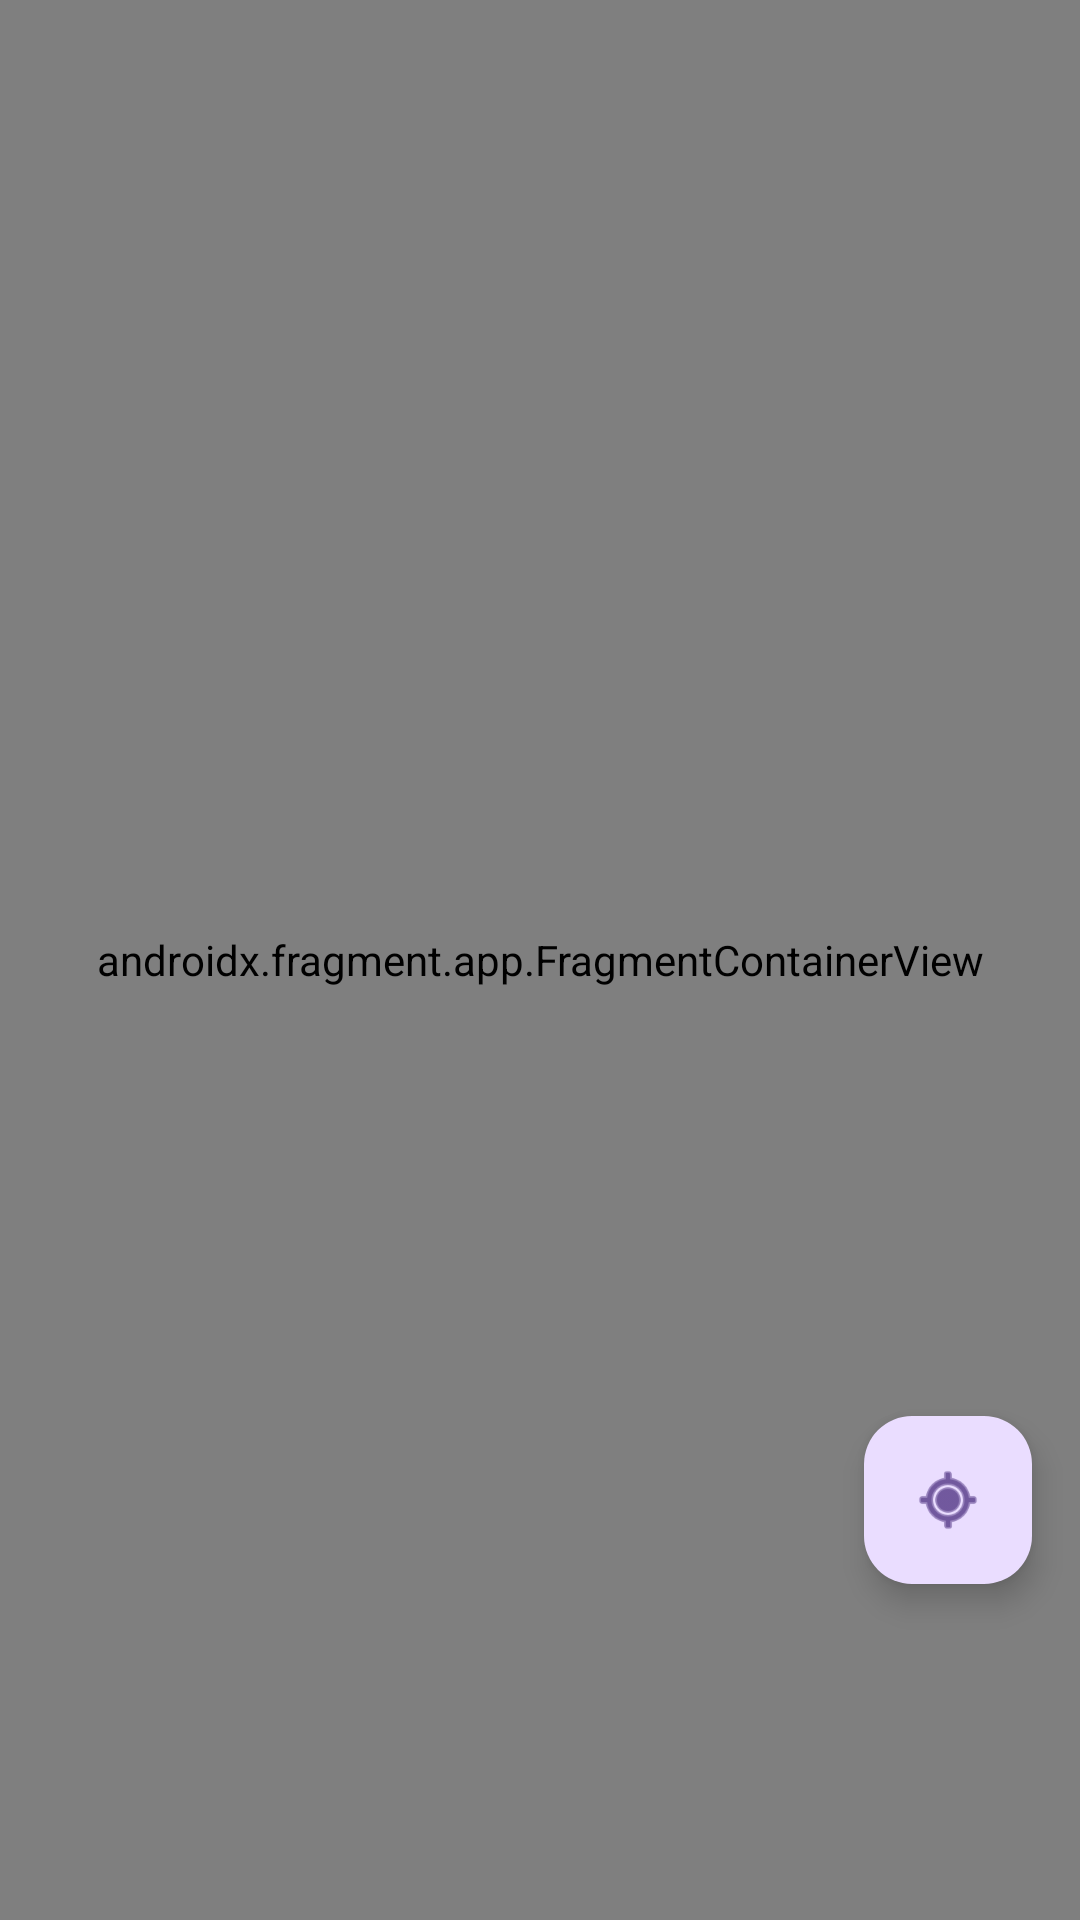

Icon click points for this 1080px x 1920px phone screenshot, format (x=x, y=y):
mylocation: (x=948, y=1500)
